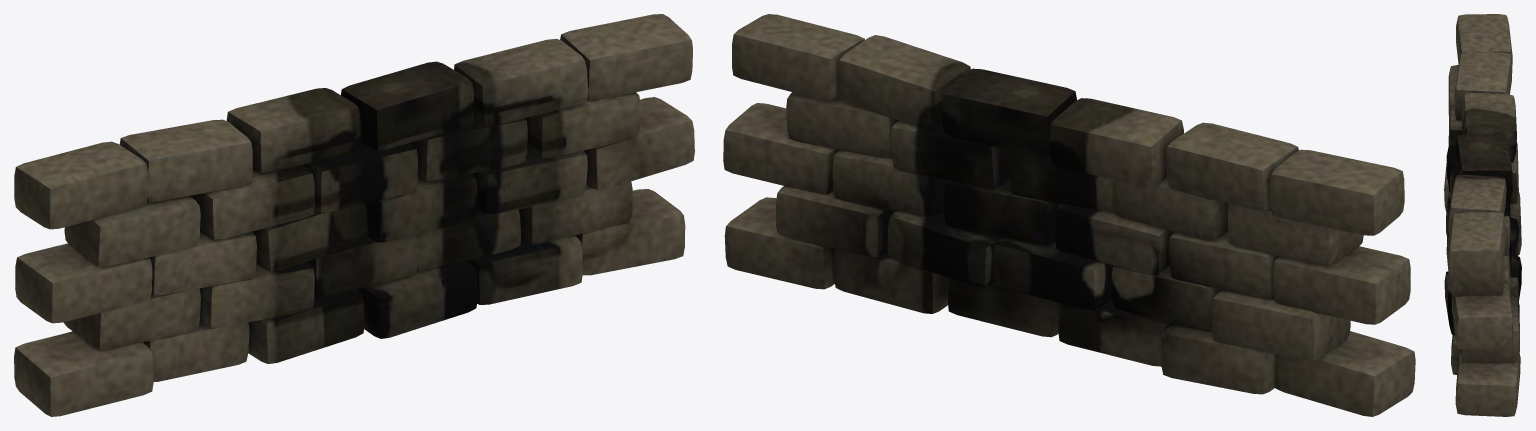
Rendered from sacos.glb.
3 views of the same model, side by side, from view 1: azimuth 30°, elevation 25°; view 2: azimuth 150°, elevation 25°; view 3: azimuth 270°, elevation 25° (orthographic). The views are drawn at different scales.
Parts seen in each view (by area): view 1: sacos; view 2: sacos; view 3: sacos.
Boxes of the visible parts, x1,y1,x2,y2 form: sacos: (14, 14, 694, 416); sacos: (723, 14, 1415, 416); sacos: (1444, 14, 1521, 416).
Bounding box in the file's own units: 3.12 × 1.05 × 0.4281.
Materials: 1 (1 with a texture image).
